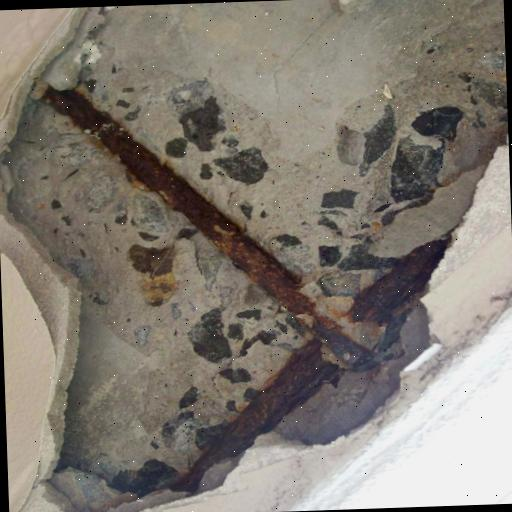spalling: (3, 0, 508, 508)
